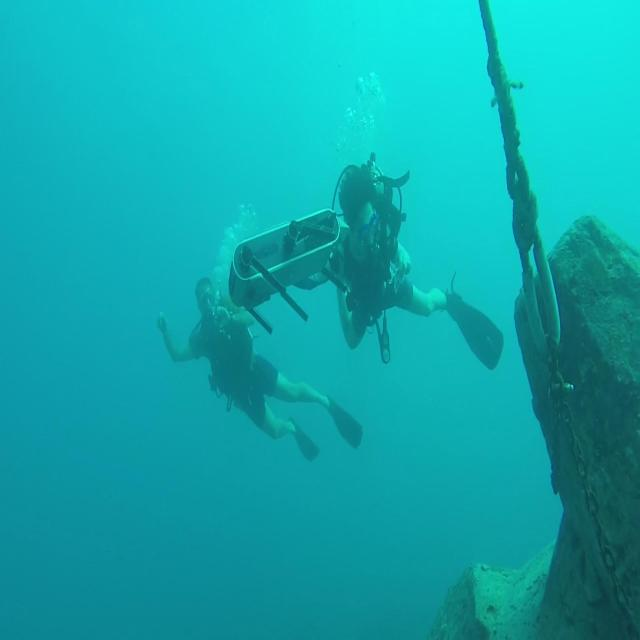human: (228, 154, 503, 372), (156, 275, 363, 462)
